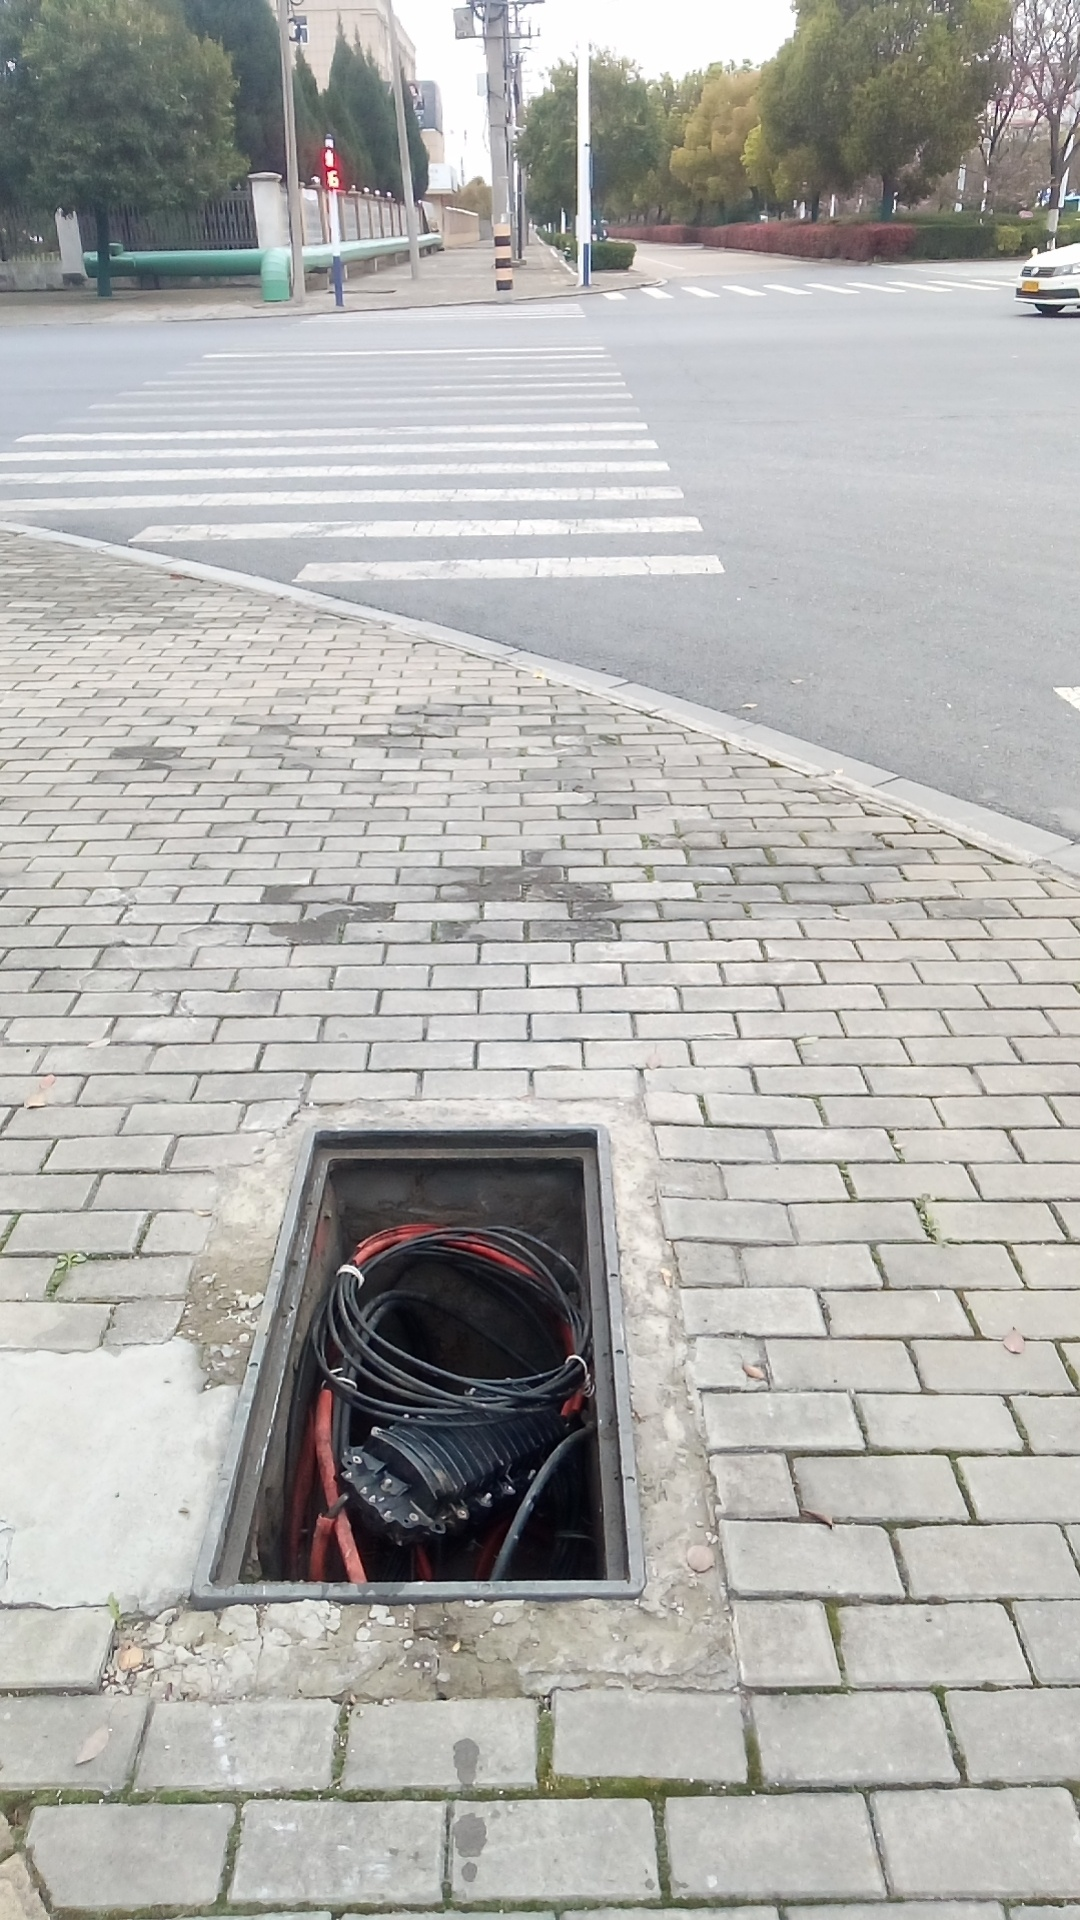well: (198, 1117, 645, 1598)
